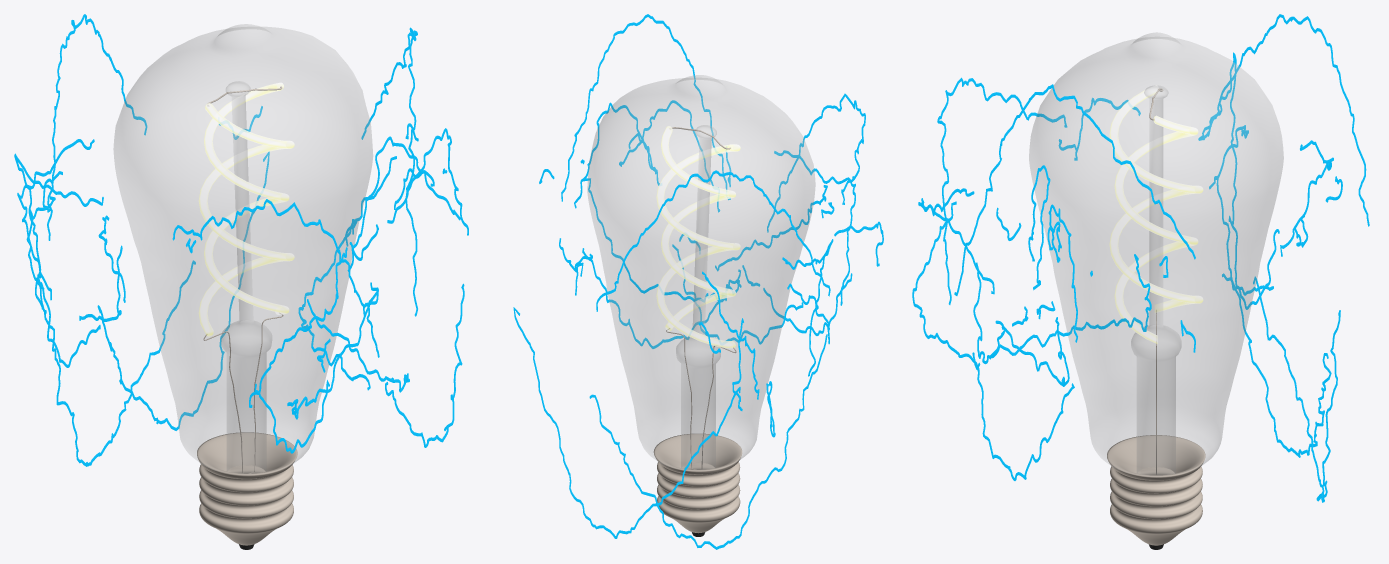
File: lampe.glb
3 renders of one model, left to right at view 1: azimuth 30°, elevation 25°; view 2: azimuth 150°, elevation 25°; view 3: azimuth 270°, elevation 25°, orthographic. The views are drawn at different scales.
Visible parts, largest first — view 1: Glass, Filament, Torus, Thread; view 2: Glass, Torus, Filament, Thread; view 3: Glass, Torus, Filament, Thread.
Boxes of the visible parts, x1,y1,x2,y2 form: Glass: (113,24,372,474); Filament: (198,81,294,473); Torus: (14,14,468,466); Thread: (197,432,297,549); Glass: (587,75,815,470); Torus: (513,14,883,549); Filament: (656,125,740,469); Thread: (653,433,742,536); Glass: (1029,32,1283,476); Torus: (912,14,1369,502); Filament: (1109,85,1203,475); Thread: (1107,435,1205,549).
Size of the model in its own units: 0.1077 by 0.1397 by 0.1133.
